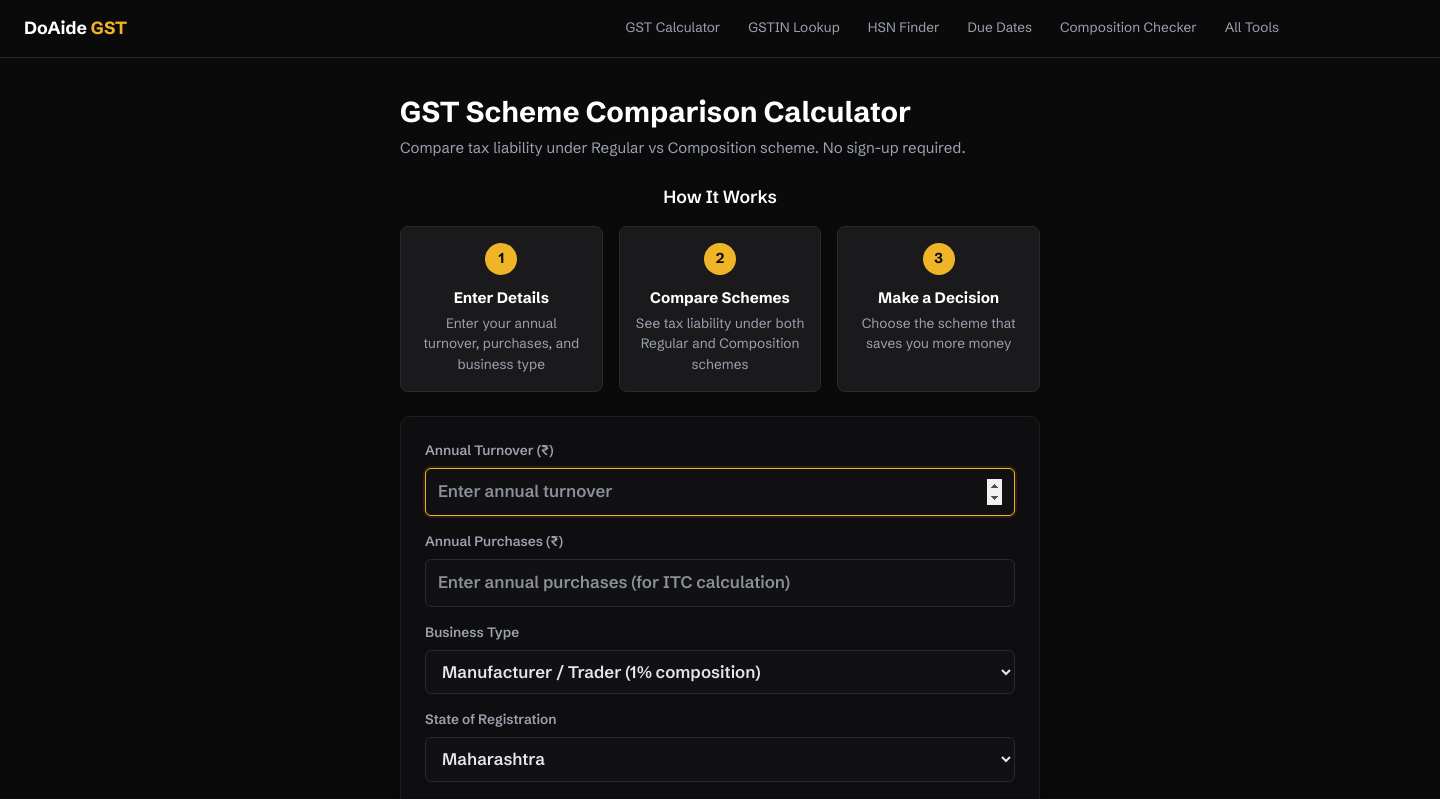
SchemeComparisonPage › a goods business in a special category state is over the limit above ₹75 lakh
In the number field with placeholder "Enter annual turnover": (720, 492) 425,468 -> 1015,516, type "8000000"
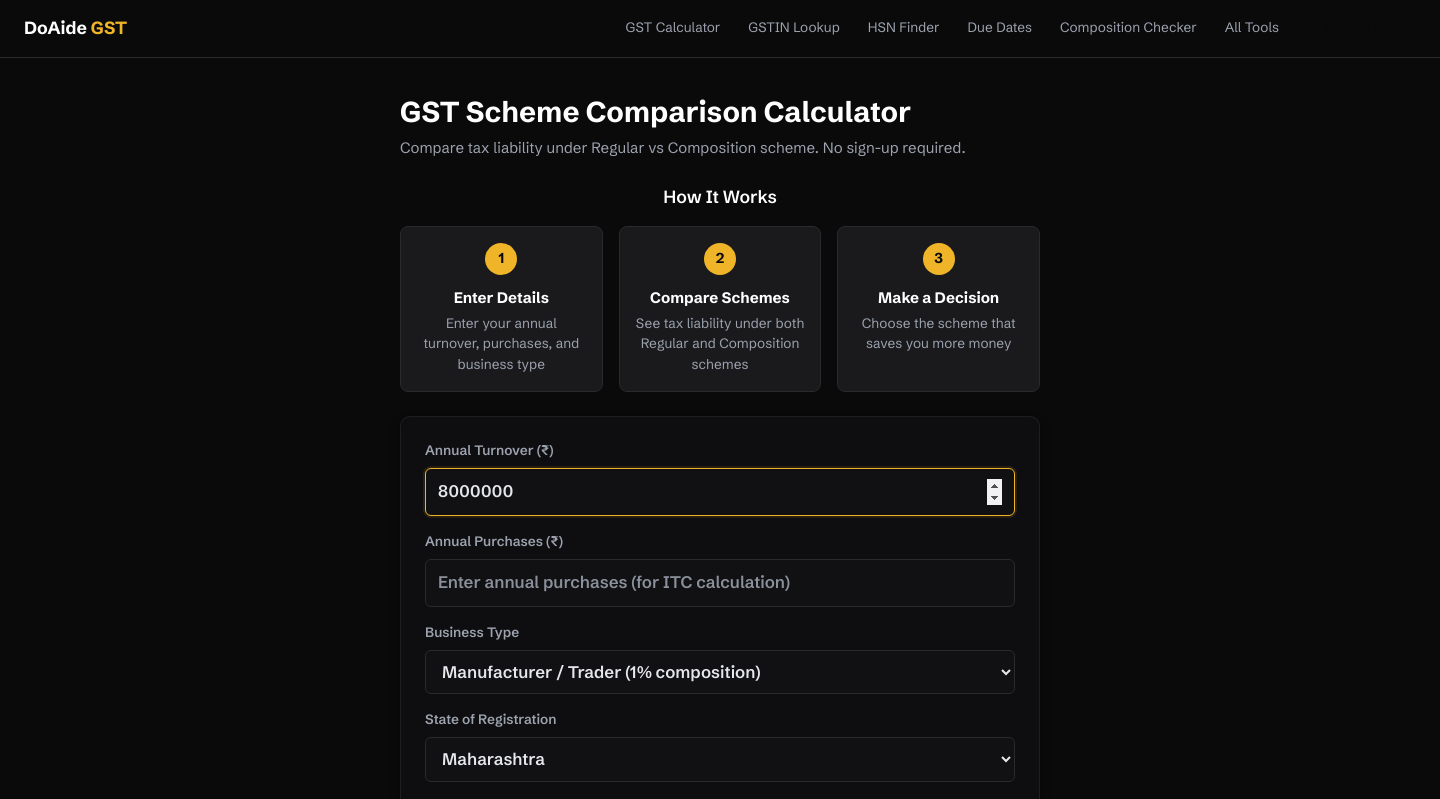
Check: the text "exceeds the Composition Scheme limit" is not shown
Select "Sikkim" in the dropdown labelled "State of Registration": (720, 760) 425,737 -> 1015,782
(page scrolled)
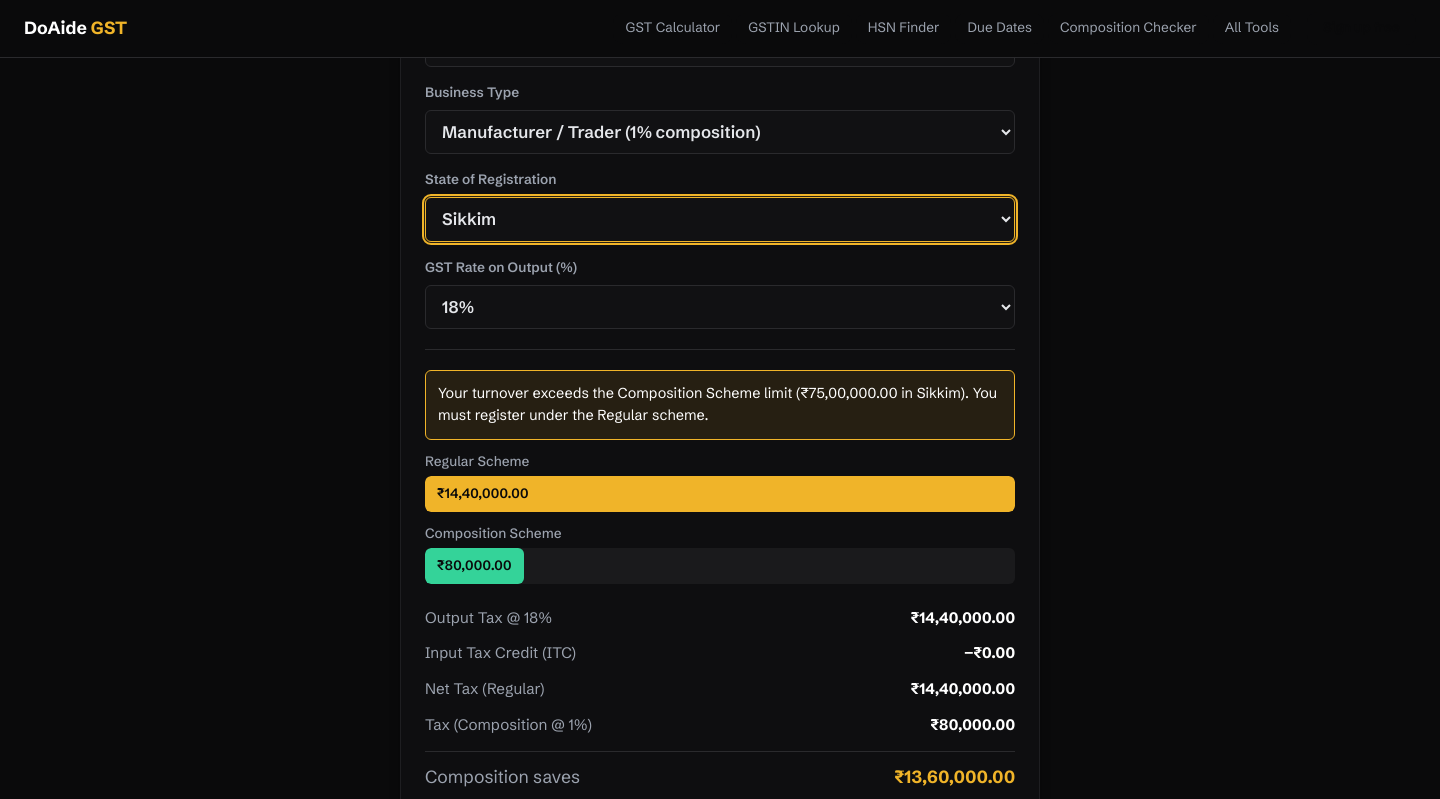
Check: the text "exceeds the Composition Scheme limit (₹75,00,000.00 in Sikkim)" is shown, box 438,383 -> 1002,427
